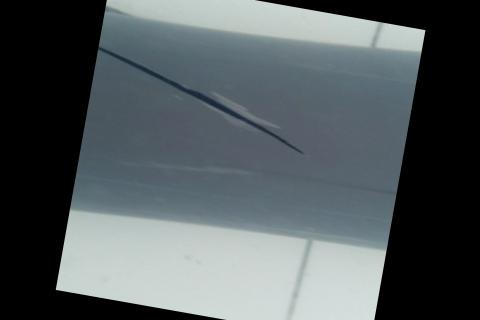keretakan: (85, 42, 319, 157)
